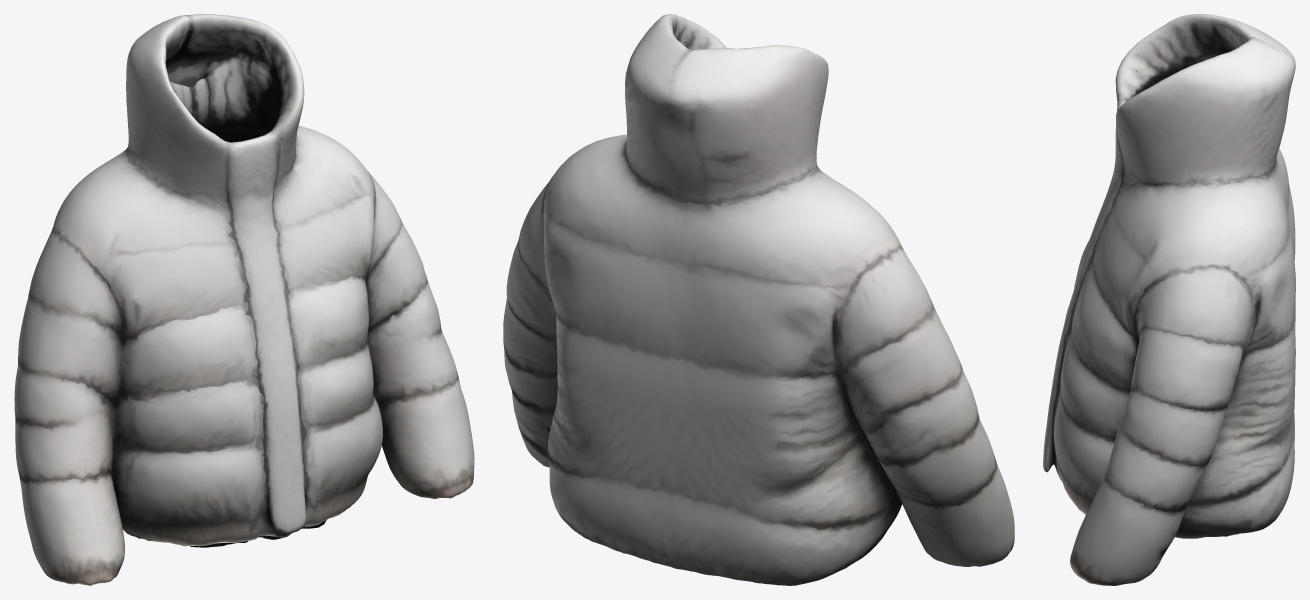
Rendered from puffer.glb.
3 renders of one model, left to right at view 1: azimuth 30°, elevation 25°; view 2: azimuth 150°, elevation 25°; view 3: azimuth 270°, elevation 25°, orthographic. The views are drawn at different scales.
Parts seen in each view (by area): view 1: geometry_0; view 2: geometry_0; view 3: geometry_0.
Part boxes in pixels (x1=…): geometry_0: x1=14, y1=14, x2=474, y2=585; geometry_0: x1=503, y1=14, x2=1014, y2=585; geometry_0: x1=1043, y1=14, x2=1295, y2=585.
Size of the model in its own units: 0.7828 by 0.8 by 0.4035.
1 material, 1 textured.
